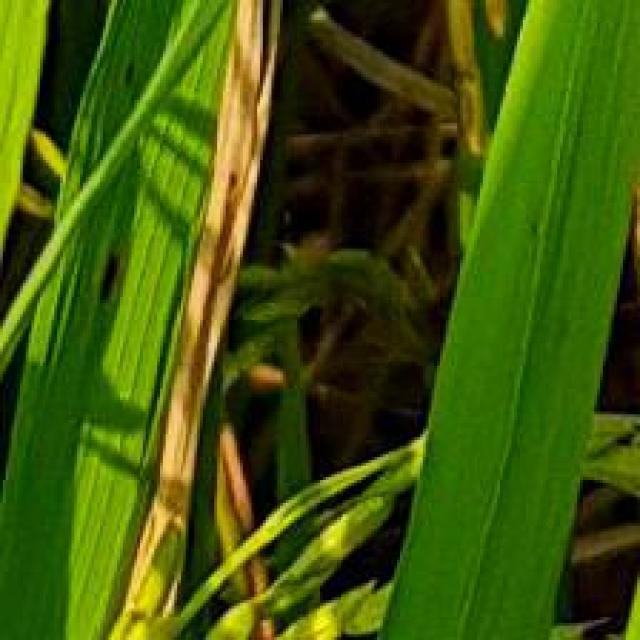Rice_Bacterial_Blight: (143, 9, 274, 578)
